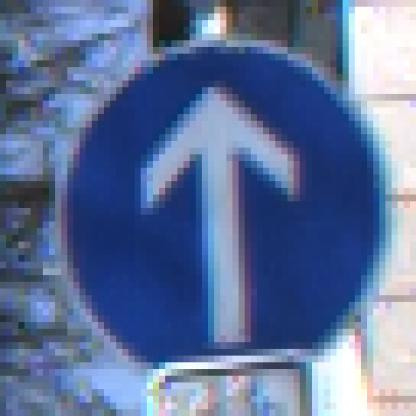AheadOnly: (44, 35, 380, 384)
